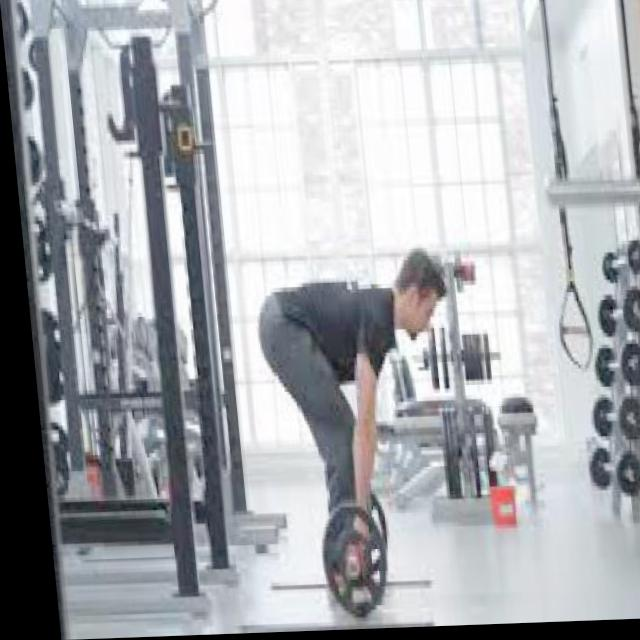barbell: (304, 499, 384, 627)
